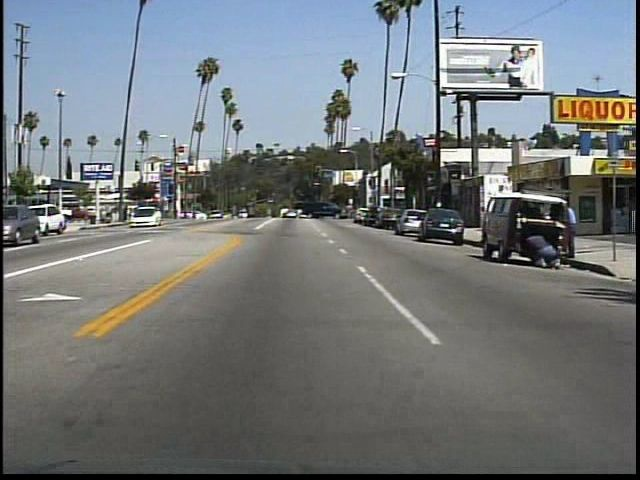person: (520, 229, 559, 273), (560, 202, 578, 260)
